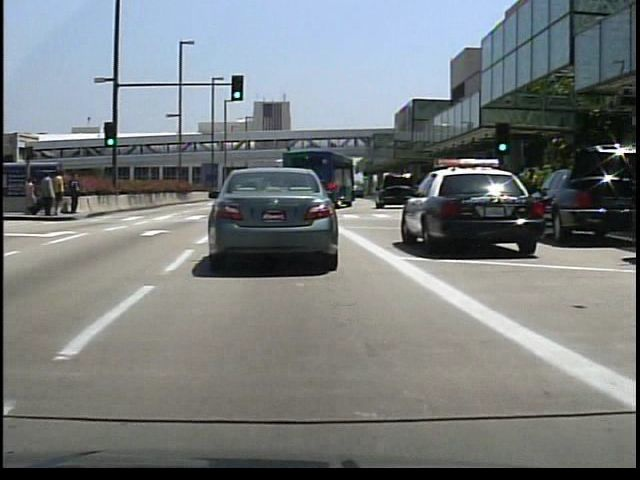person: (65, 170, 82, 217), (39, 171, 56, 216), (20, 173, 38, 214), (52, 170, 65, 218)
